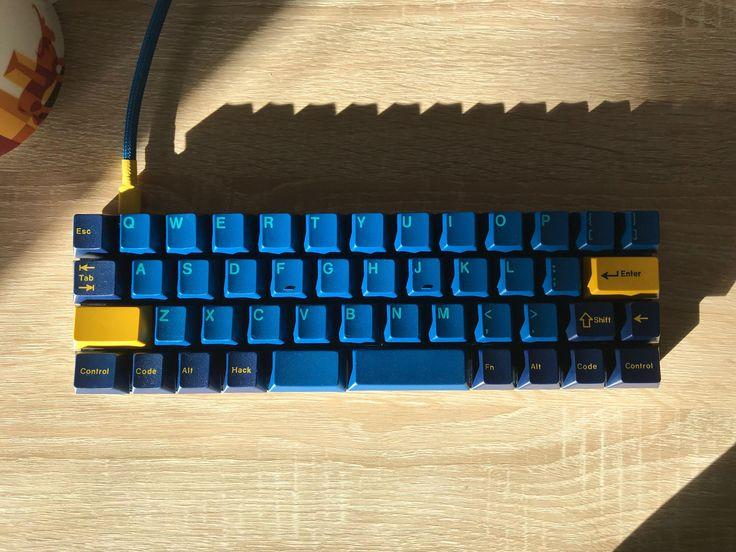keyboard: (71, 209, 662, 394)
